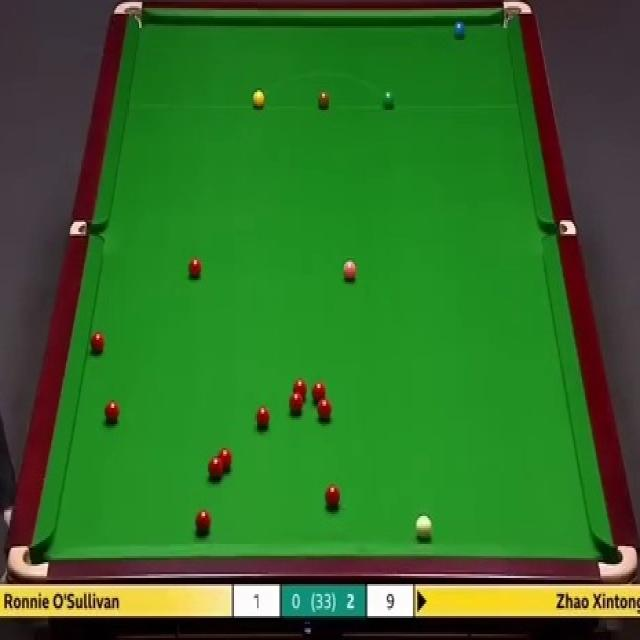blue-ball: (454, 20, 466, 42)
brown-ball: (317, 90, 330, 109)
green-ball: (381, 90, 394, 109)
pink-ball: (342, 262, 358, 284)
red-ball: (194, 511, 212, 536), (317, 396, 333, 424), (105, 398, 121, 424), (90, 333, 105, 358), (324, 484, 341, 506), (218, 448, 232, 474), (255, 404, 269, 428), (208, 458, 223, 480), (290, 394, 305, 415), (292, 378, 307, 399), (312, 381, 326, 403), (188, 260, 202, 278)
white-ball: (414, 514, 432, 541)
yellow-ball: (252, 90, 265, 109)
